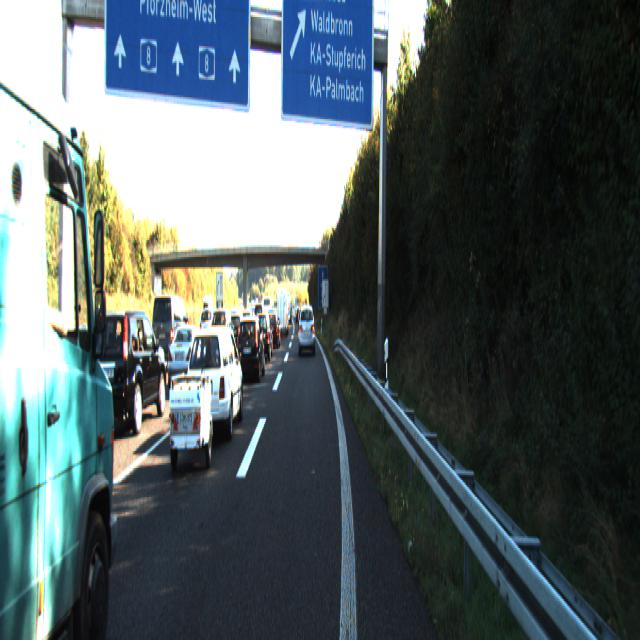Car: (0, 0, 128, 639), (88, 308, 168, 441), (183, 320, 244, 448), (164, 369, 215, 478), (152, 292, 190, 370), (165, 322, 208, 389), (234, 312, 265, 382), (251, 312, 273, 362), (298, 303, 315, 354), (276, 291, 288, 337)
